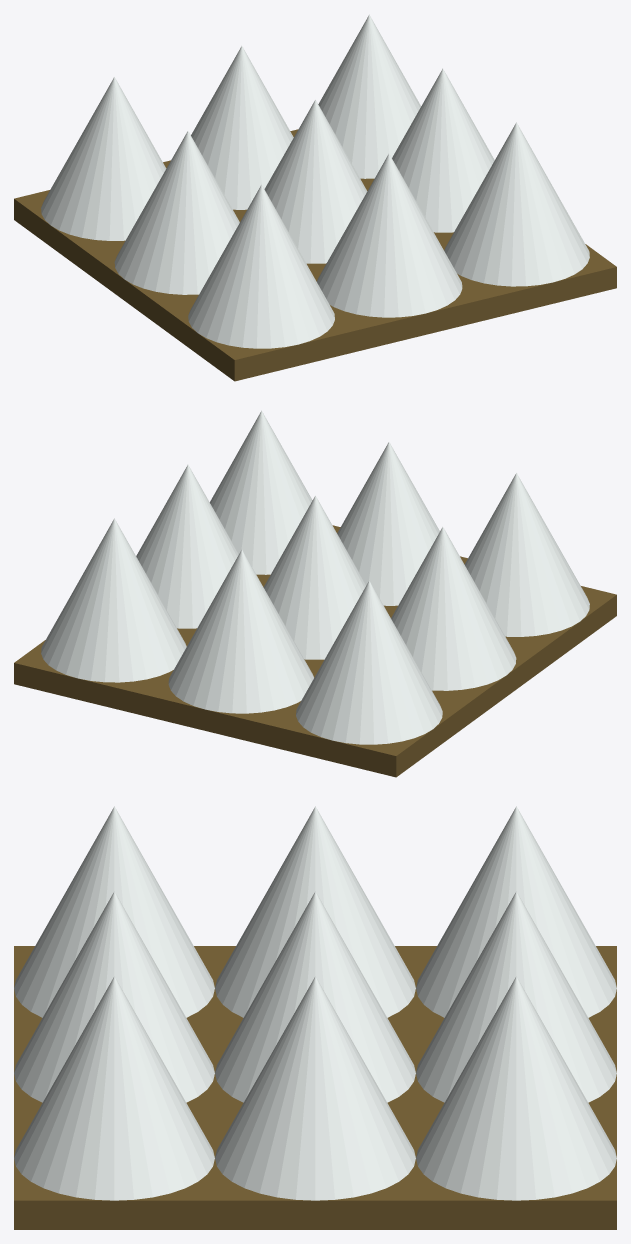
3 views of the same model, one above another, from view 1: azimuth 30°, elevation 25°; view 2: azimuth 150°, elevation 25°; view 3: azimuth 270°, elevation 25° (orthographic). The views are drawn at different scales.
Visible parts, largest first — view 1: 立方体, 锥体.007, 锥体.005, 锥体.002, 锥体.008, 锥体, 锥体.004, 锥体.003, 锥体.001, 锥体.006; view 2: 立方体, 锥体, 锥体.006, 锥体.001, 锥体.008, 锥体.007, 锥体.004, 锥体.003, 锥体.002, 锥体.005; view 3: 立方体, 锥体.001, 锥体.002, 锥体.003, 锥体, 锥体.007, 锥体.008, 锥体.004, 锥体.005, 锥体.006.
Part boxes in pixels (left/top/right/bottom): 立方体: left=14, top=129, right=616, bottom=381; 锥体.007: left=188, top=184, right=334, bottom=348; 锥体.005: left=317, top=153, right=462, bottom=317; 锥体.002: left=444, top=122, right=589, bottom=286; 锥体.008: left=114, top=131, right=239, bottom=294; 锥体: left=41, top=77, right=166, bottom=240; 锥体.004: left=264, top=99, right=367, bottom=263; 锥体.003: left=392, top=68, right=494, bottom=232; 锥体.001: left=318, top=14, right=420, bottom=178; 锥体.006: left=191, top=46, right=293, bottom=209; 立方体: left=14, top=525, right=616, bottom=777; 锥体: left=296, top=580, right=442, bottom=744; 锥体.006: left=168, top=549, right=313, bottom=713; 锥体.001: left=41, top=518, right=186, bottom=682; 锥体.008: left=391, top=527, right=516, bottom=690; 锥体.007: left=464, top=473, right=589, bottom=636; 锥体.004: left=263, top=495, right=366, bottom=659; 锥体.003: left=136, top=464, right=238, bottom=628; 锥体.002: left=210, top=410, right=312, bottom=574; 锥体.005: left=337, top=442, right=439, bottom=605; 立方体: left=14, top=946, right=616, bottom=1229; 锥体.001: left=416, top=976, right=616, bottom=1200; 锥体.002: left=14, top=976, right=214, bottom=1200; 锥体.003: left=215, top=976, right=415, bottom=1200; 锥体: left=416, top=806, right=616, bottom=1017; 锥体.007: left=14, top=806, right=214, bottom=1017; 锥体.008: left=215, top=806, right=415, bottom=1017; 锥体.004: left=215, top=891, right=415, bottom=1102; 锥体.005: left=14, top=891, right=214, bottom=1102; 锥体.006: left=416, top=891, right=616, bottom=1102.
Bounding box in the file's own units: 300 × 116 × 300.
